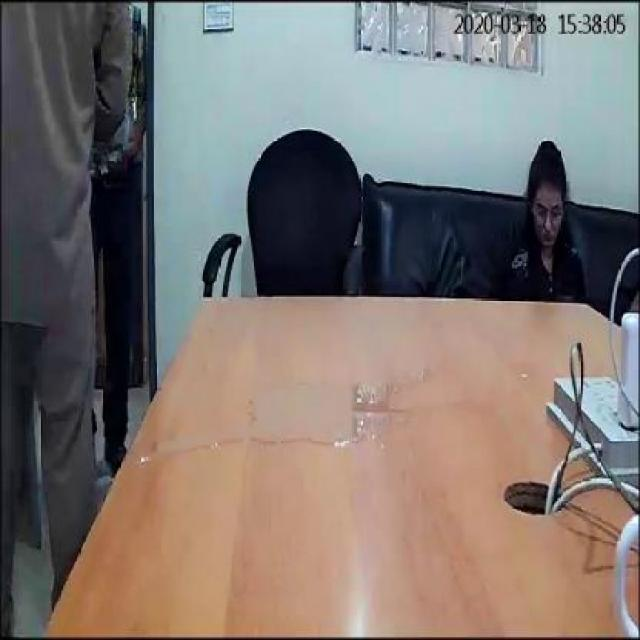spill: (128, 376, 377, 461)
